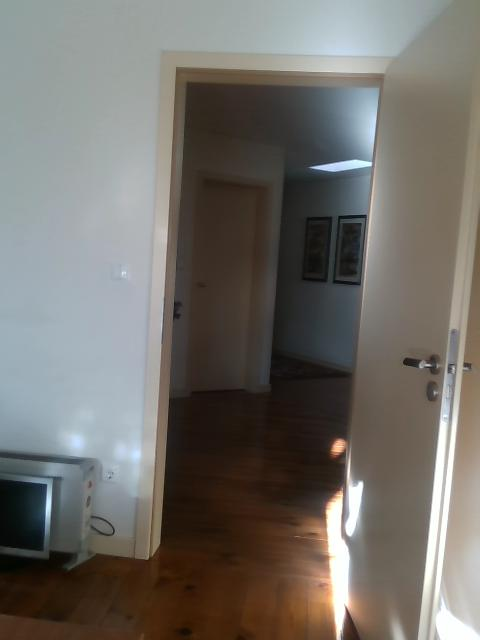open_door: (132, 47, 400, 560)
